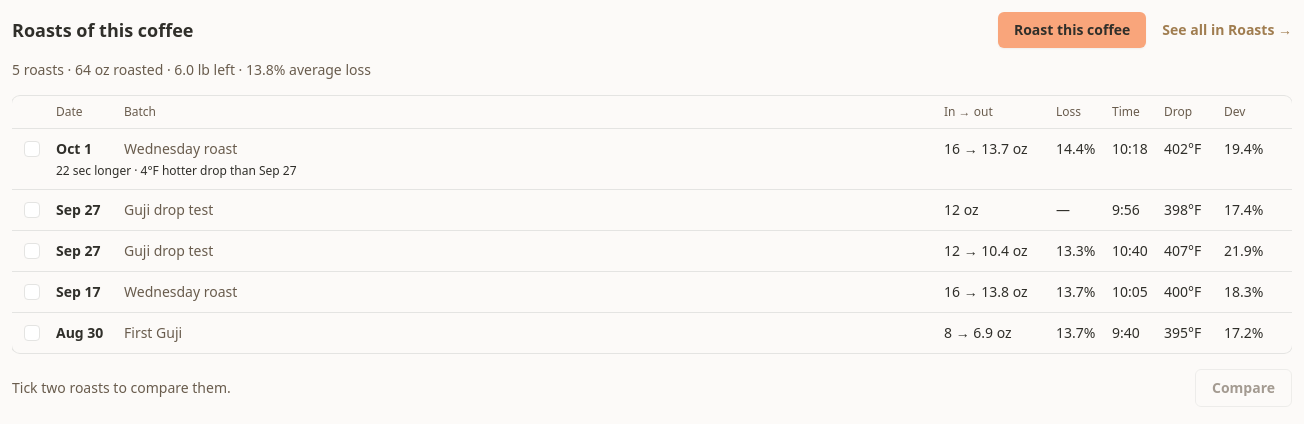
Scenario: portfolio Roasting tab › offers Compare once two rows are ticked, newer roast as side A
Expected: the text "Tick two roasts to compare them." is shown, [12,378,231,398]
Expected: the button "Compare" is disabled, [1195,369,1292,407]
What coordinates should you click on to do the following:
click the checkbox named "roast #4507"
I would click on:
 (32, 292)
Its box is [24,284,40,300].
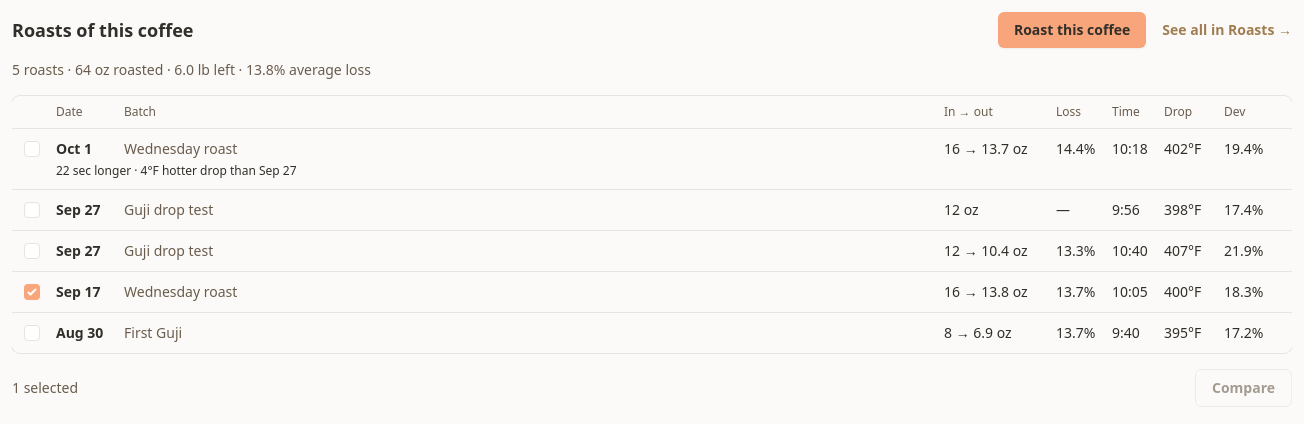
Expected: the button "Compare" is disabled, [1195,369,1292,407]
Result: the text "1 selected" is shown at [12,378,78,398]
What coordinates should you click on to do the following:
click the checkbox named "roast #4531"
I would click on:
 (32, 149)
Its box is [24,141,40,157].
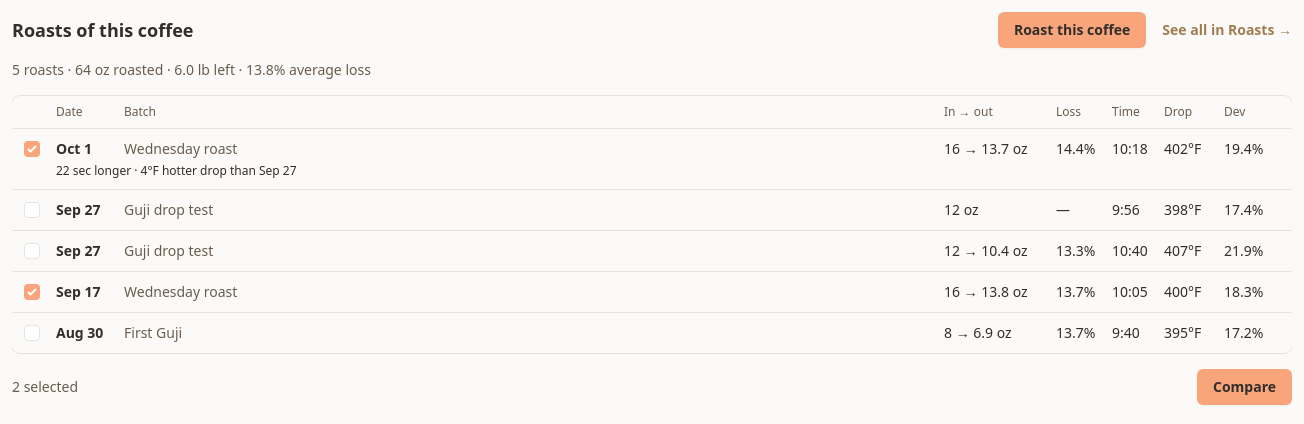
Result: the text "2 selected" is shown at [12,377,78,397]
